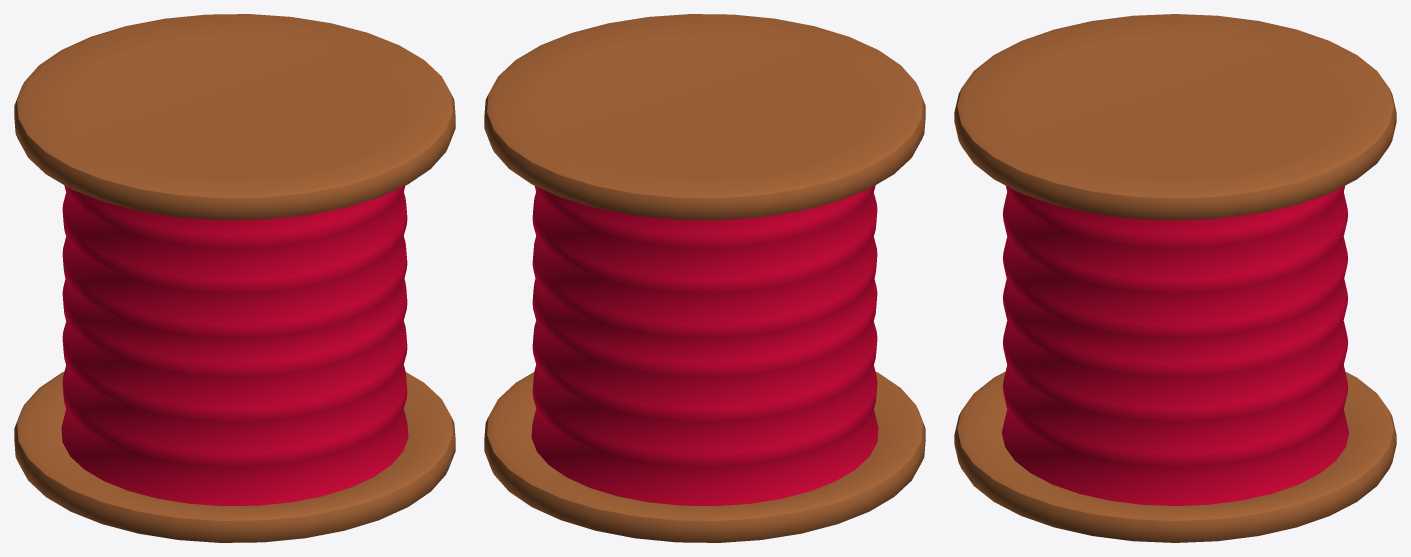
The model's file is SpoolLevel1.fbx.
The picture shows the model from 3 angles, left to right: view 1: azimuth 30°, elevation 25°; view 2: azimuth 150°, elevation 25°; view 3: azimuth 270°, elevation 25°; orthographic projection.
Parts seen in each view (by area): view 1: Cylinder; view 2: Cylinder; view 3: Cylinder.
Part boxes in pixels (box(x1,y1,x2,y2)): Cylinder: box(14, 14, 455, 542); Cylinder: box(484, 14, 925, 542); Cylinder: box(954, 14, 1396, 542).
Size of the model in its own units: 266 by 231 by 266.
